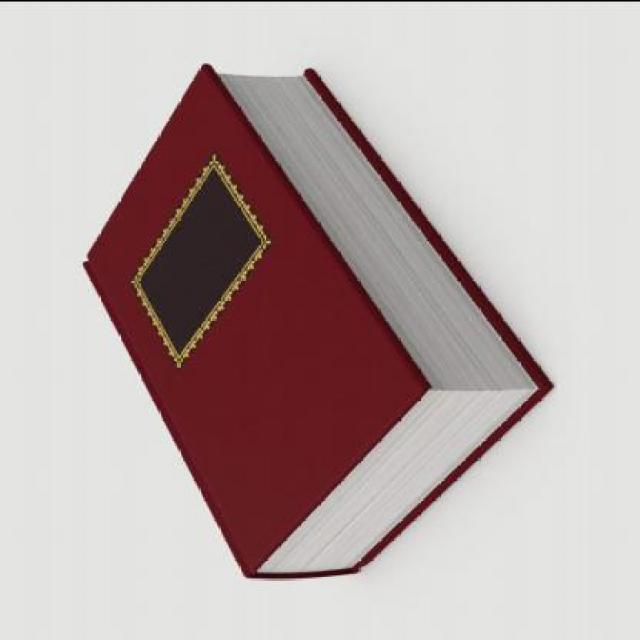pen: (41, 63, 579, 592)
